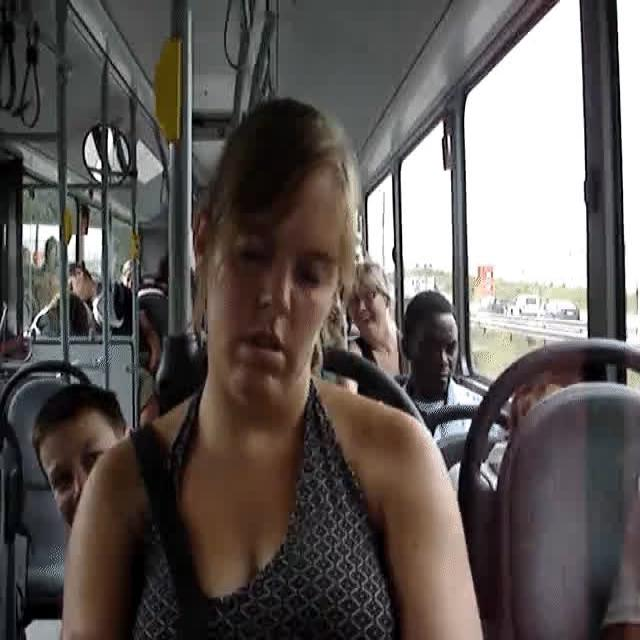no-seatbelt: (192, 96, 354, 416)
